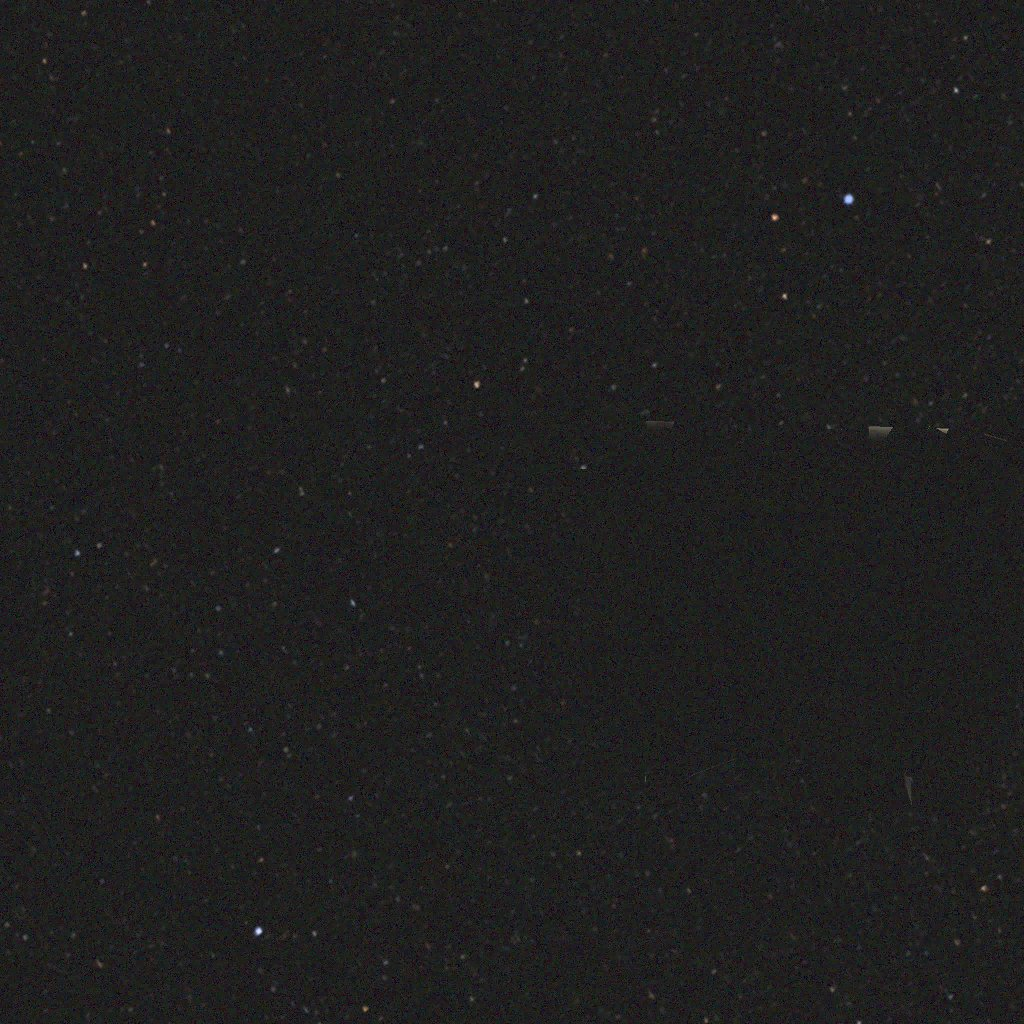proba_3_csc: (459, 413, 1024, 823)
